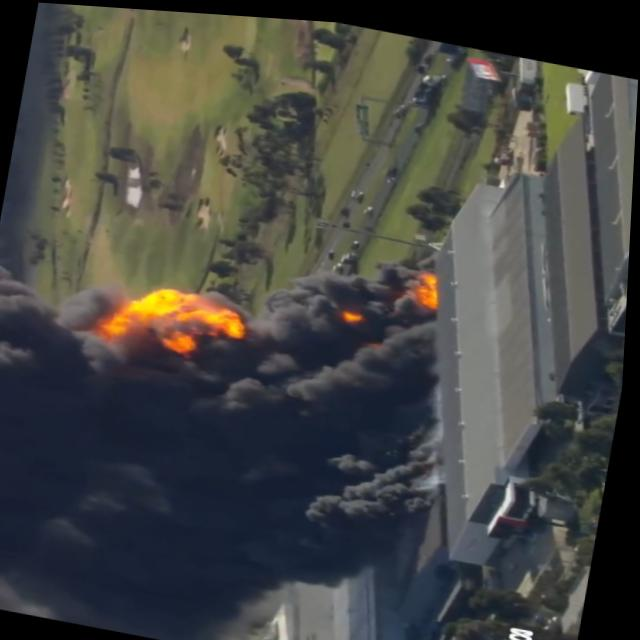Fire: (92, 272, 252, 364), (410, 266, 443, 303), (335, 300, 367, 319)
